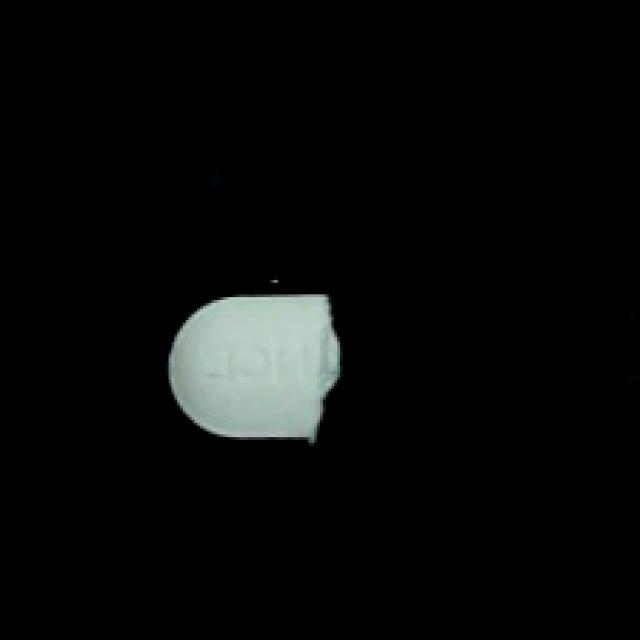defected: (154, 257, 357, 451)
